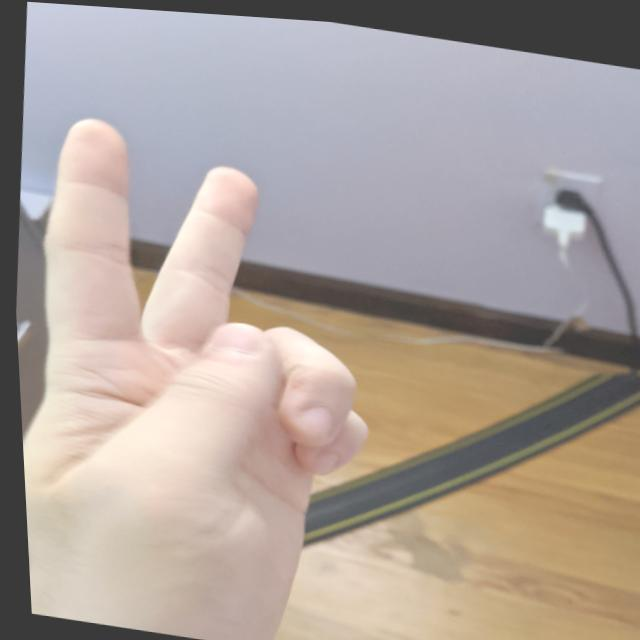K: (3, 93, 410, 639)
